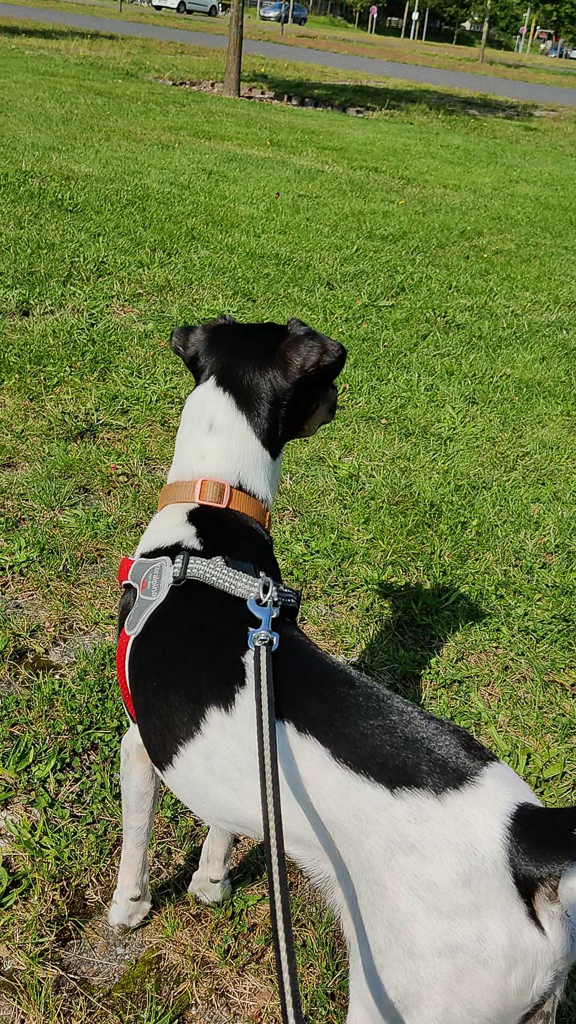Dog: (56, 284, 576, 1024)
